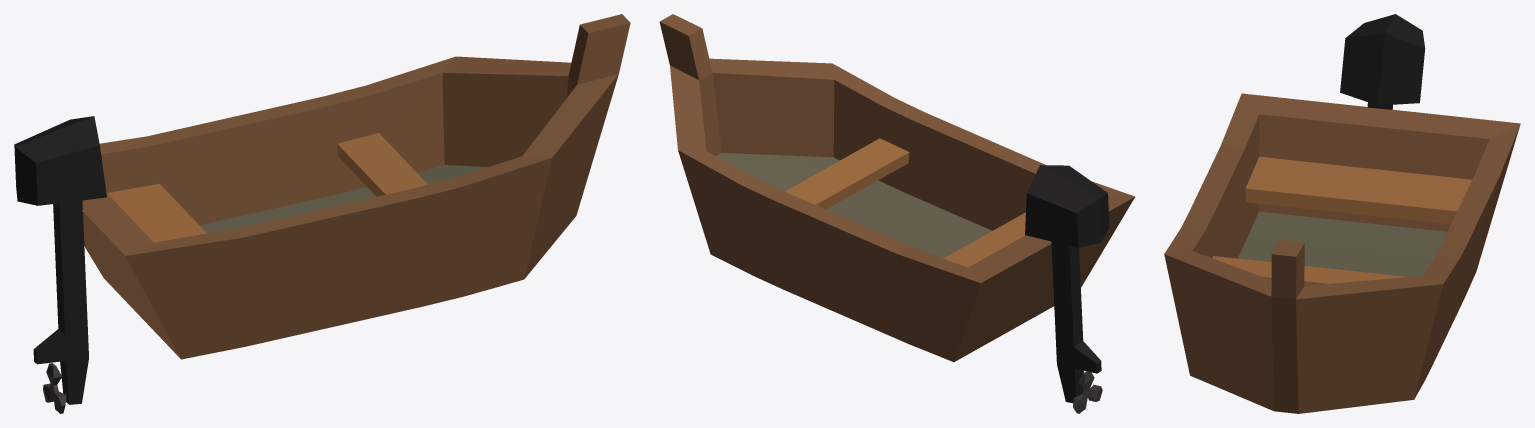
The model's file is Boat.fbx.
3 renders of one model, left to right at view 1: azimuth 30°, elevation 25°; view 2: azimuth 150°, elevation 25°; view 3: azimuth 270°, elevation 25°, orthographic. The views are drawn at different scales.
Parts seen in each view (by area): view 1: boat; view 2: boat; view 3: boat.
Boxes of the visible parts, x1,y1,x2,y2 form: boat: (14, 14, 630, 413); boat: (659, 14, 1135, 413); boat: (1164, 14, 1520, 413).
Bounding box in the file's own units: 49.16 × 24.6 × 26.84.
